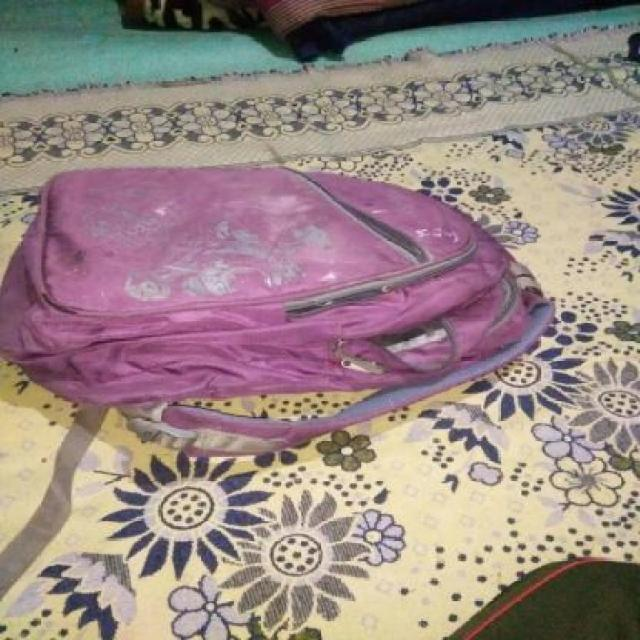backpack: (0, 158, 563, 460)
